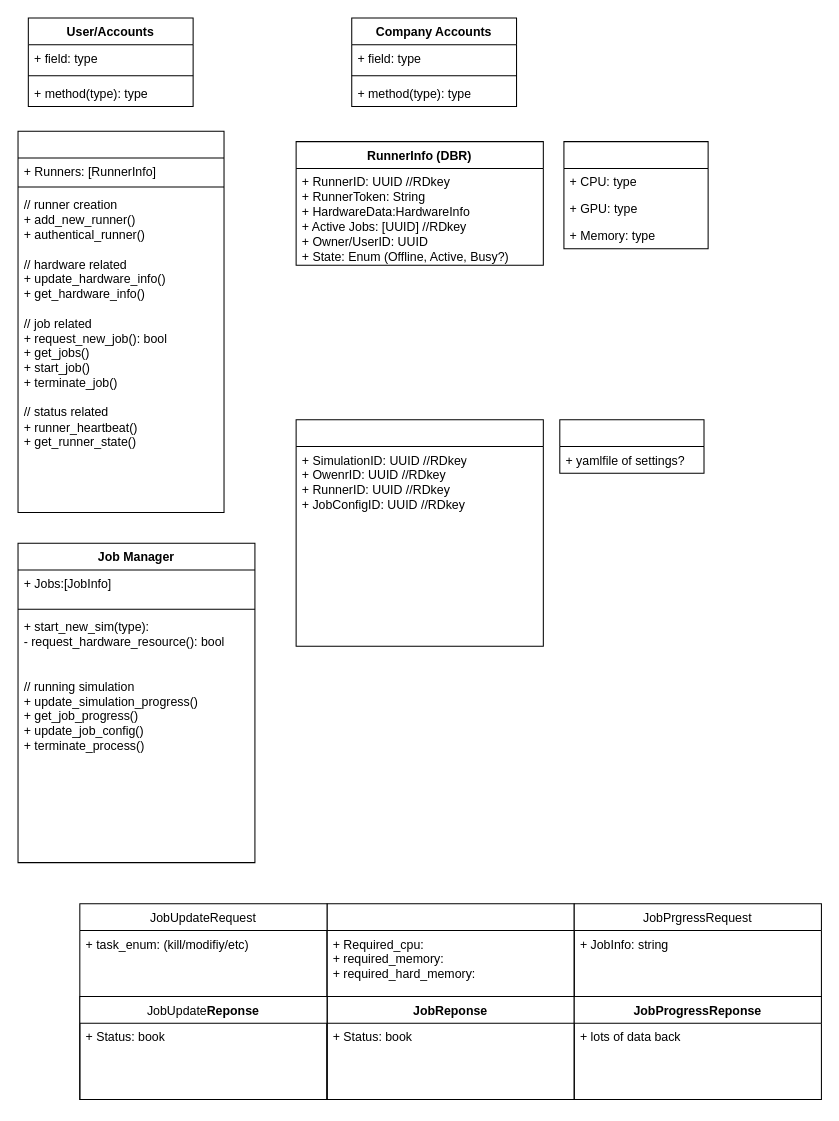
Some shapes in this 839 by 1121 pixel diagram are drawn without their labels. Each missing label, with the box of its shape:
HardwareInfo (DBR): (563, 141, 708, 249)
HardwareManager: (17, 130, 224, 512)
JobConfig (DBR): (559, 419, 704, 473)
JobInfo (DBR): (295, 419, 543, 646)
JobRequest: (326, 903, 574, 997)
